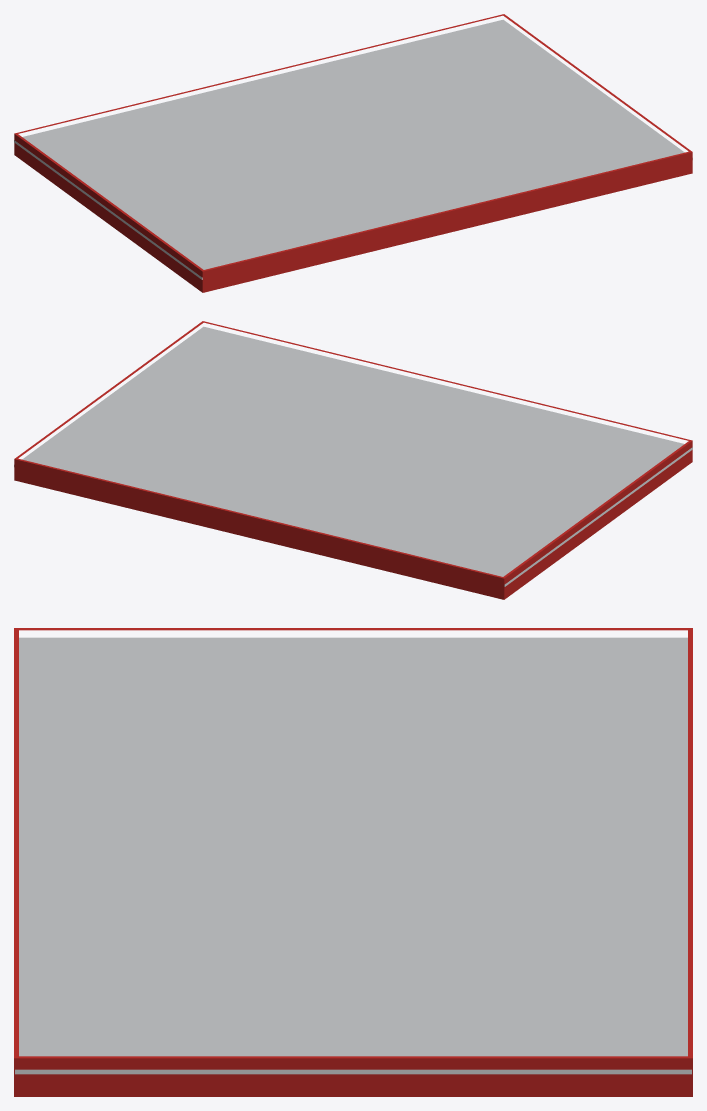
The model's file is pos-cobertura.gltf.
The picture shows the model from 3 angles, top to bottom: view 1: azimuth 30°, elevation 25°; view 2: azimuth 150°, elevation 25°; view 3: azimuth 270°, elevation 25°; orthographic projection. The views are drawn at different scales.
Parts seen in each view (by area): view 1: pos-cobertura; view 2: pos-cobertura; view 3: pos-cobertura.
Part boxes in pixels (x1=…): pos-cobertura: x1=14, y1=14, x2=692, y2=292; pos-cobertura: x1=14, y1=321, x2=692, y2=599; pos-cobertura: x1=14, y1=628, x2=692, y2=1096.
Bounding box in the file's own units: 12.02 × 0.5 × 8.
